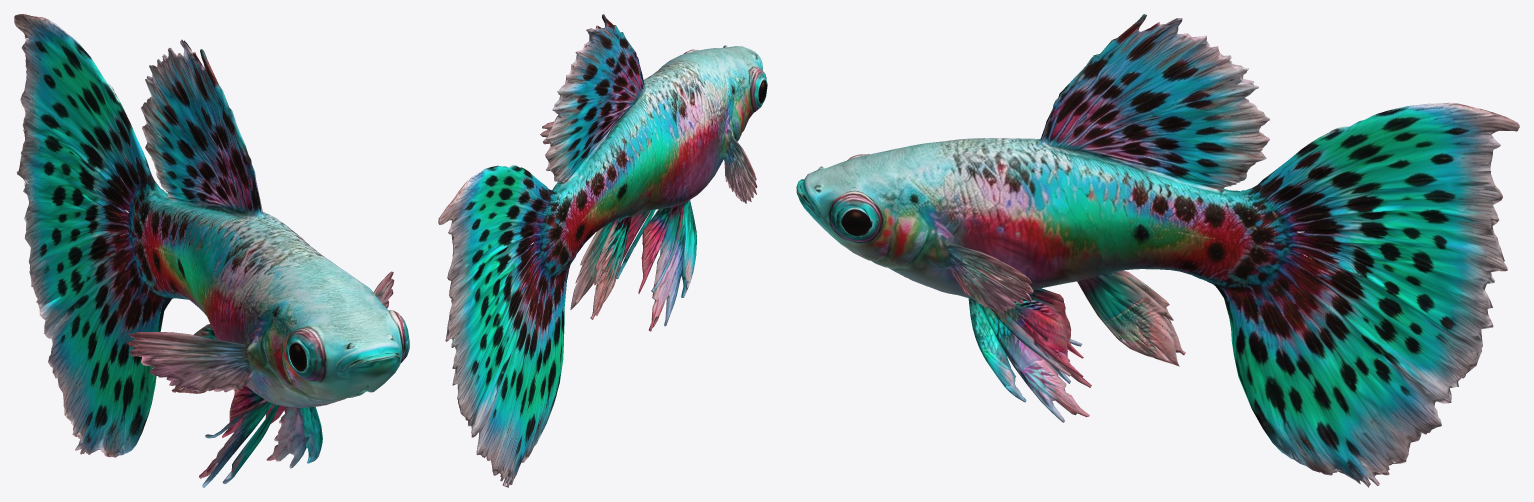
The model's file is guppy-5.glb.
3 renders of one model, left to right at view 1: azimuth 30°, elevation 25°; view 2: azimuth 150°, elevation 25°; view 3: azimuth 270°, elevation 25°, orthographic. The views are drawn at different scales.
Visible parts, largest first — view 1: Body; view 2: Body; view 3: Body.
Boxes of the visible parts, x1,y1,x2,y2 form: Body: (14, 14, 409, 487); Body: (438, 14, 767, 487); Body: (796, 14, 1519, 487).
Size of the model in its own units: 0.2339 by 0.4107 by 0.5694.
1 material, 1 textured.
